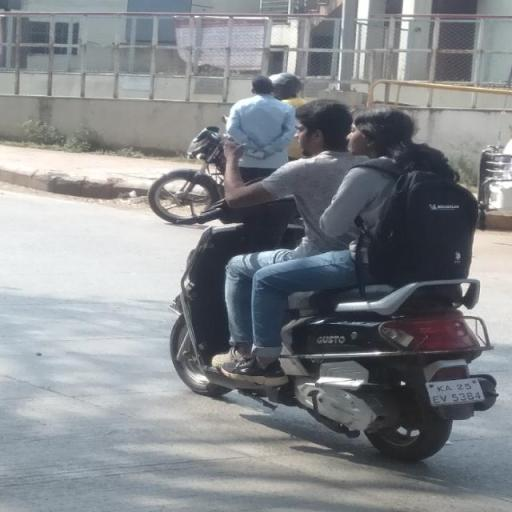bike: (161, 90, 501, 467)
numberplate: (424, 374, 494, 409)
withouthelmet: (294, 99, 347, 157), (353, 108, 409, 154)
